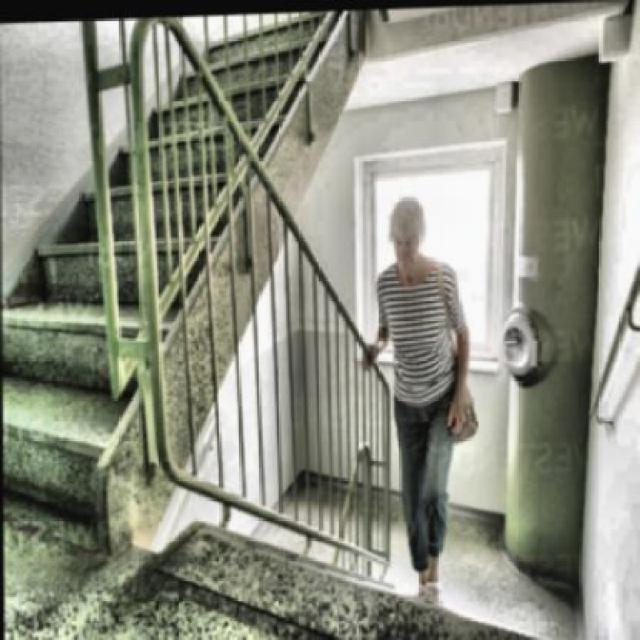stair: (0, 8, 388, 536)
